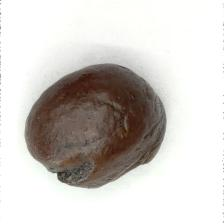NG: (44, 157, 99, 188)
